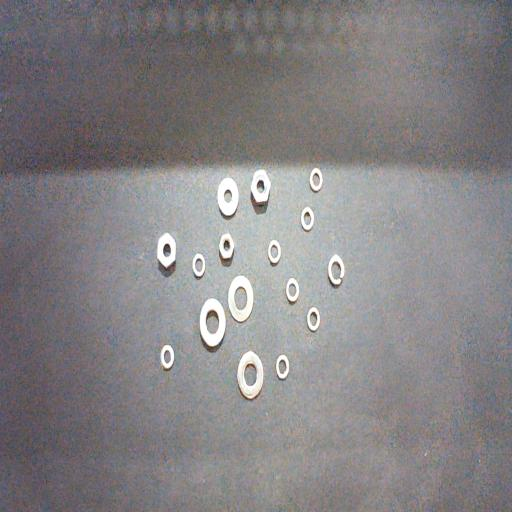nut: (156, 232, 177, 272), (250, 169, 271, 207), (219, 232, 235, 262)
washer: (237, 350, 264, 400), (199, 298, 226, 348), (228, 275, 253, 322), (217, 177, 239, 217), (328, 255, 344, 287), (285, 277, 300, 303), (275, 354, 290, 380), (300, 205, 314, 232), (160, 344, 174, 370), (309, 168, 323, 193), (306, 307, 320, 332), (192, 253, 206, 278), (268, 240, 282, 264)
